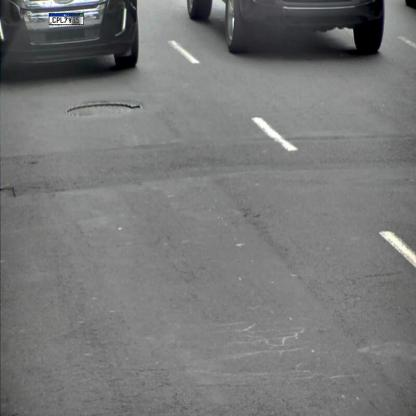PlacaM: (49, 13, 84, 25)
